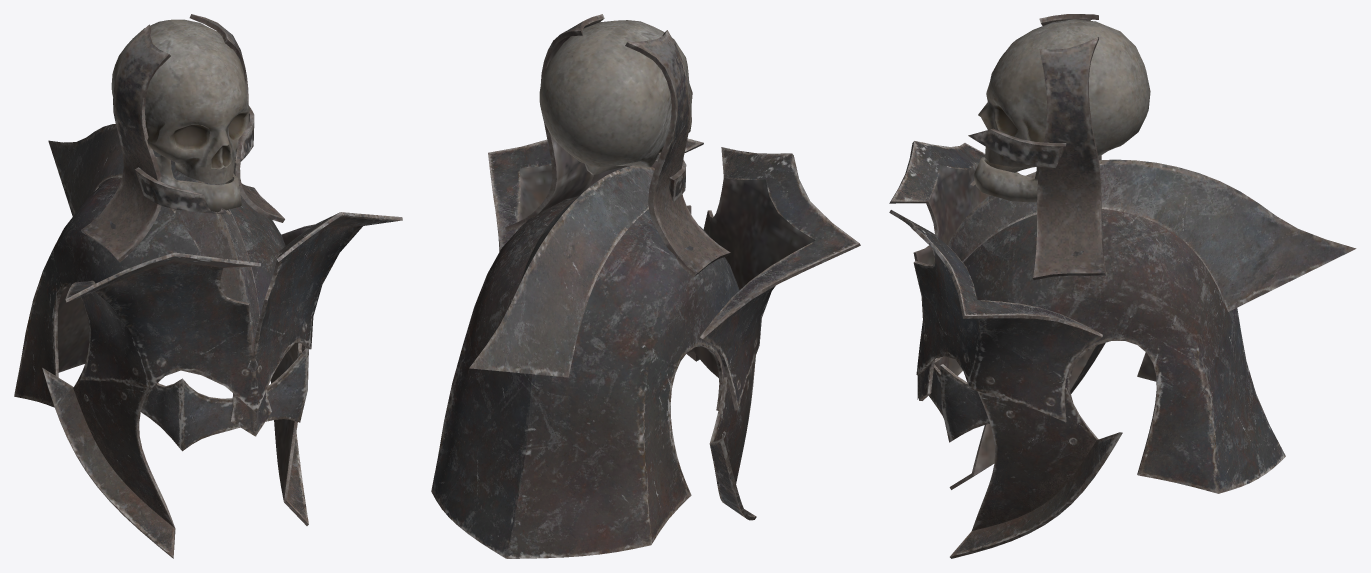
The model's file is sk_dg_uruk_helmet_lord_h.fbx.
The picture shows the model from 3 angles, left to right: view 1: azimuth 30°, elevation 25°; view 2: azimuth 150°, elevation 25°; view 3: azimuth 270°, elevation 25°; orthographic projection. The views are drawn at different scales.
Parts seen in each view (by area): view 1: sk_dg_uruk_helmet_lord_h.0, sk_dg_uruk_helmet_lord_h.1; view 2: sk_dg_uruk_helmet_lord_h.0, sk_dg_uruk_helmet_lord_h.1; view 3: sk_dg_uruk_helmet_lord_h.0, sk_dg_uruk_helmet_lord_h.1.
Part boxes in pixels (x1=…): sk_dg_uruk_helmet_lord_h.0: x1=14, y1=124, x2=402, y2=558; sk_dg_uruk_helmet_lord_h.1: x1=81, y1=14, x2=284, y2=262; sk_dg_uruk_helmet_lord_h.0: x1=431, y1=138, x2=860, y2=558; sk_dg_uruk_helmet_lord_h.1: x1=505, y1=14, x2=730, y2=277; sk_dg_uruk_helmet_lord_h.0: x1=889, y1=141, x2=1356, y2=558; sk_dg_uruk_helmet_lord_h.1: x1=968, y1=14, x2=1150, y2=280.
Size of the model in its own units: 0.3426 by 0.3902 by 0.4594.
Materials: 2 (2 with a texture image).
